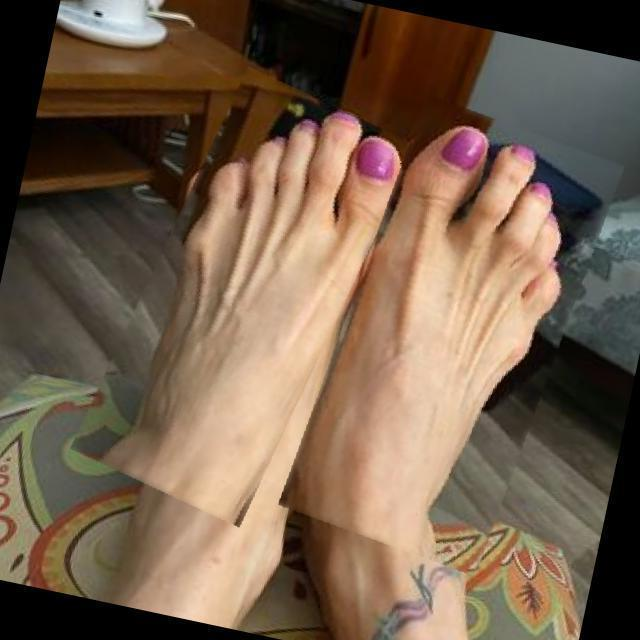No_Shoes: (381, 105, 617, 528), (150, 108, 383, 514)
